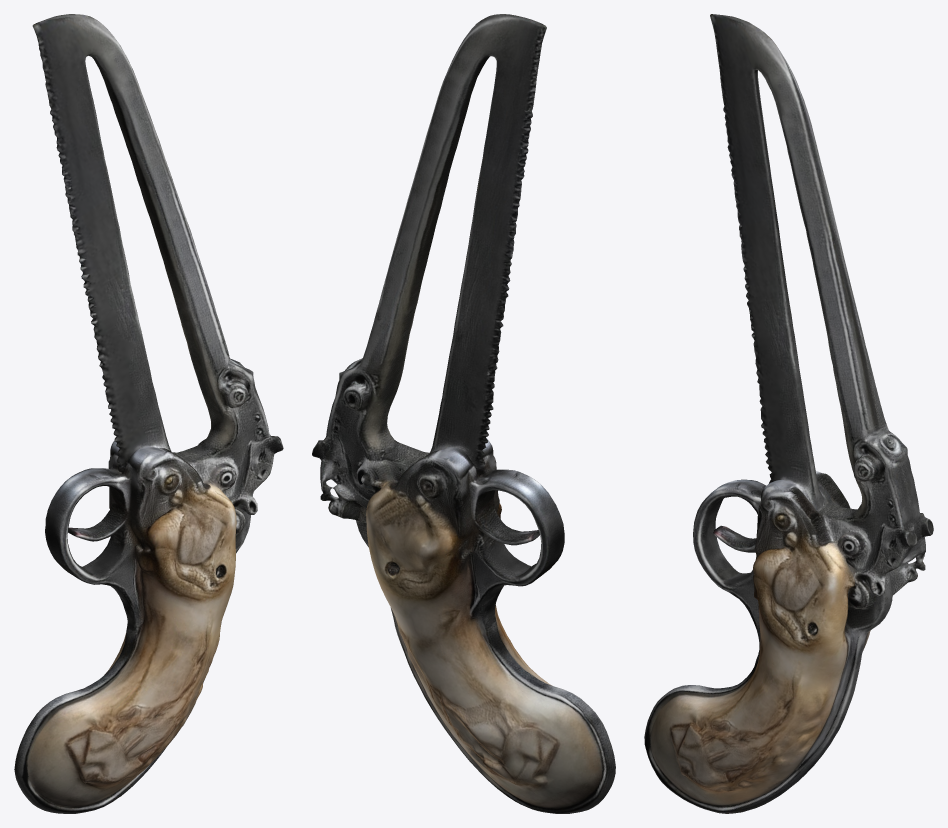
File: weapon_bone_saw.glb
3 renders of one model, left to right at view 1: azimuth 30°, elevation 25°; view 2: azimuth 150°, elevation 25°; view 3: azimuth 330°, elevation 25°, orthographic. The views are drawn at different scales.
Size of the model in its own units: 0.1305 by 0.36 by 0.0468.
1 material, 1 textured.
